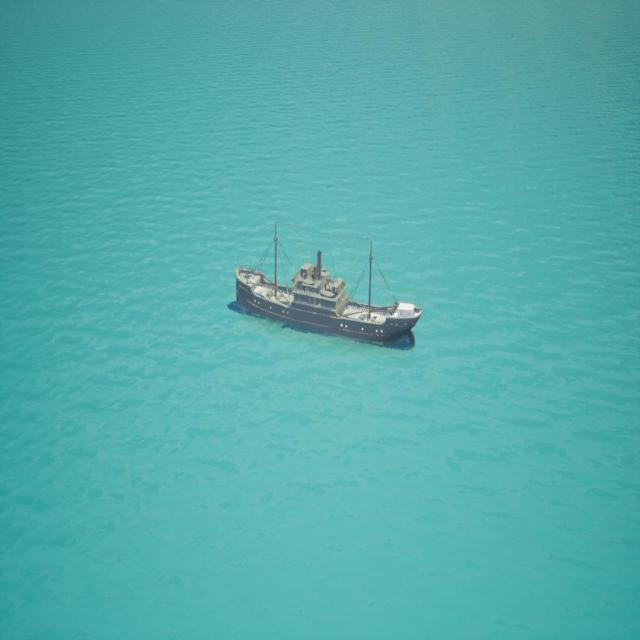fishing ship: (234, 234, 421, 347)
